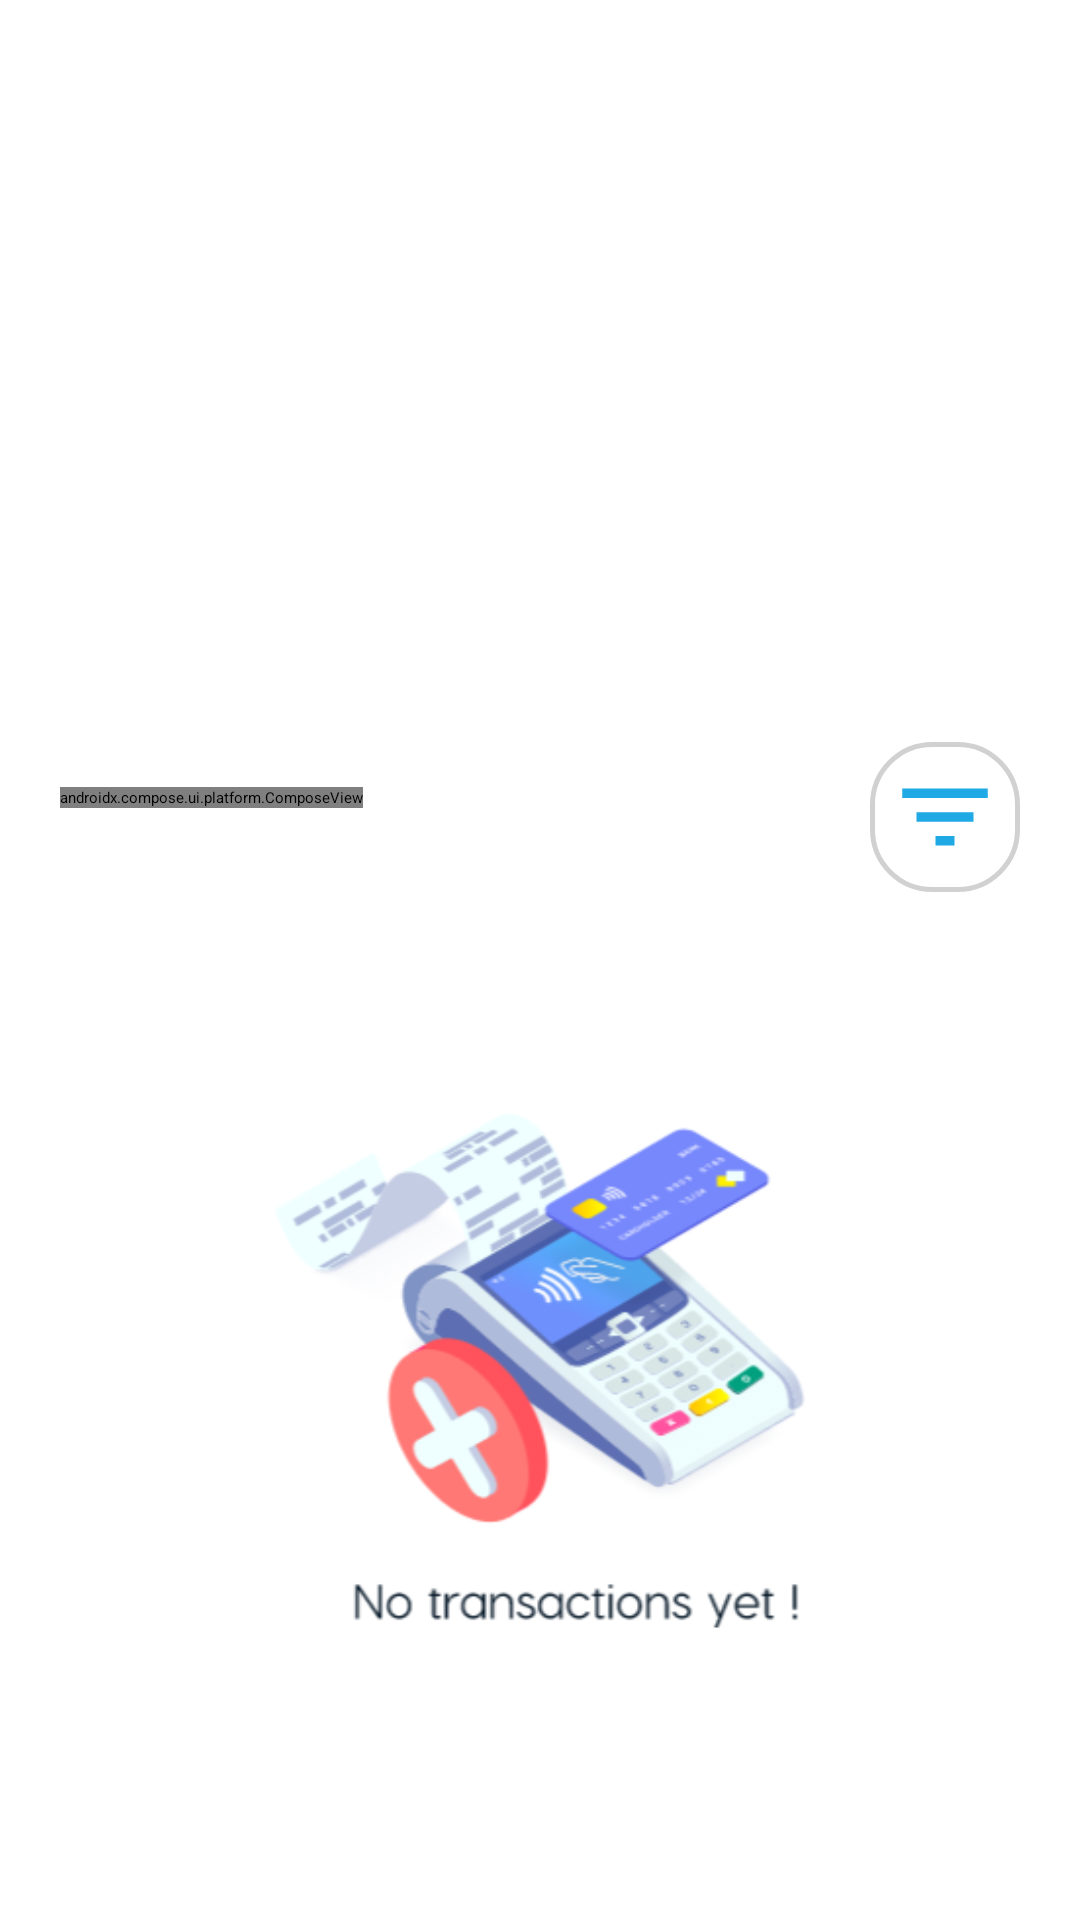

Named icons in this screenshot (1080 x 1920) and their centers, (x,y):
filter list: (945,817)
